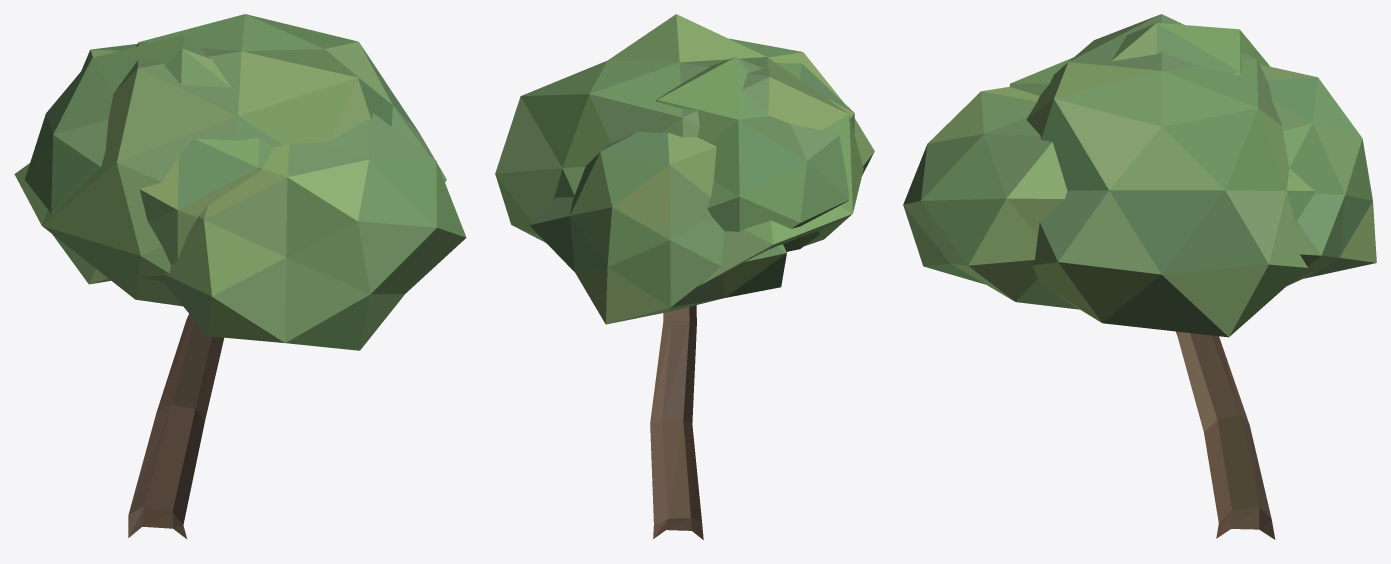
File: Tree_Broadleaf_06.glb
3 views of the same model, side by side, from view 1: azimuth 30°, elevation 25°; view 2: azimuth 150°, elevation 25°; view 3: azimuth 270°, elevation 25° (orthographic). The views are drawn at different scales.
Parts seen in each view (by area): view 1: Tree_Broadleaf_06; view 2: Tree_Broadleaf_06; view 3: Tree_Broadleaf_06.
Part boxes in pixels (x1=…): Tree_Broadleaf_06: x1=14, y1=14, x2=466, y2=538; Tree_Broadleaf_06: x1=495, y1=14, x2=874, y2=539; Tree_Broadleaf_06: x1=903, y1=14, x2=1376, y2=539.
Bounding box in the file's own units: 6.32 × 8.45 × 7.16.
